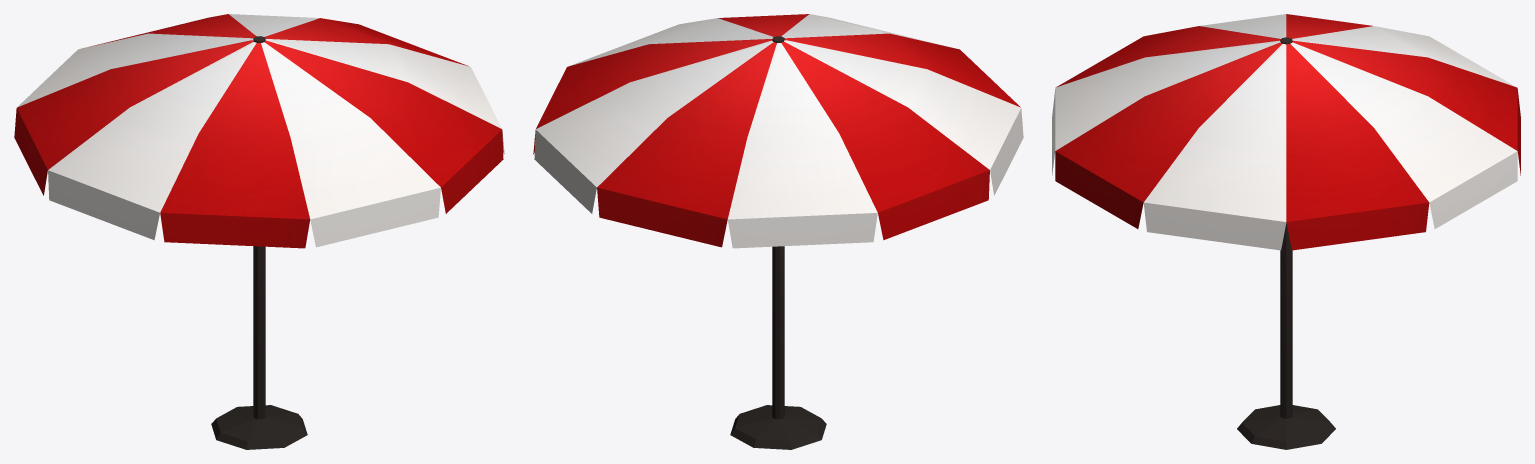
Rendered from parasol.fbx.
3 views of the same model, side by side, from view 1: azimuth 30°, elevation 25°; view 2: azimuth 150°, elevation 25°; view 3: azimuth 270°, elevation 25° (orthographic).
Parts seen in each view (by area): view 1: parasol; view 2: parasol; view 3: parasol.
Boxes of the visible parts, <box> form: parasol: <box>14,14,504,449</box>; parasol: <box>533,14,1023,449</box>; parasol: <box>1052,14,1520,449</box>.
Size of the model in its own units: 456 by 400 by 437.
